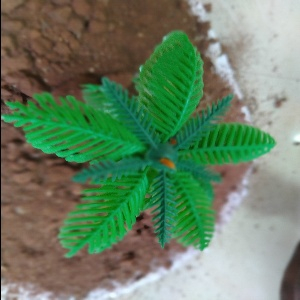plant: (2, 30, 276, 264)
